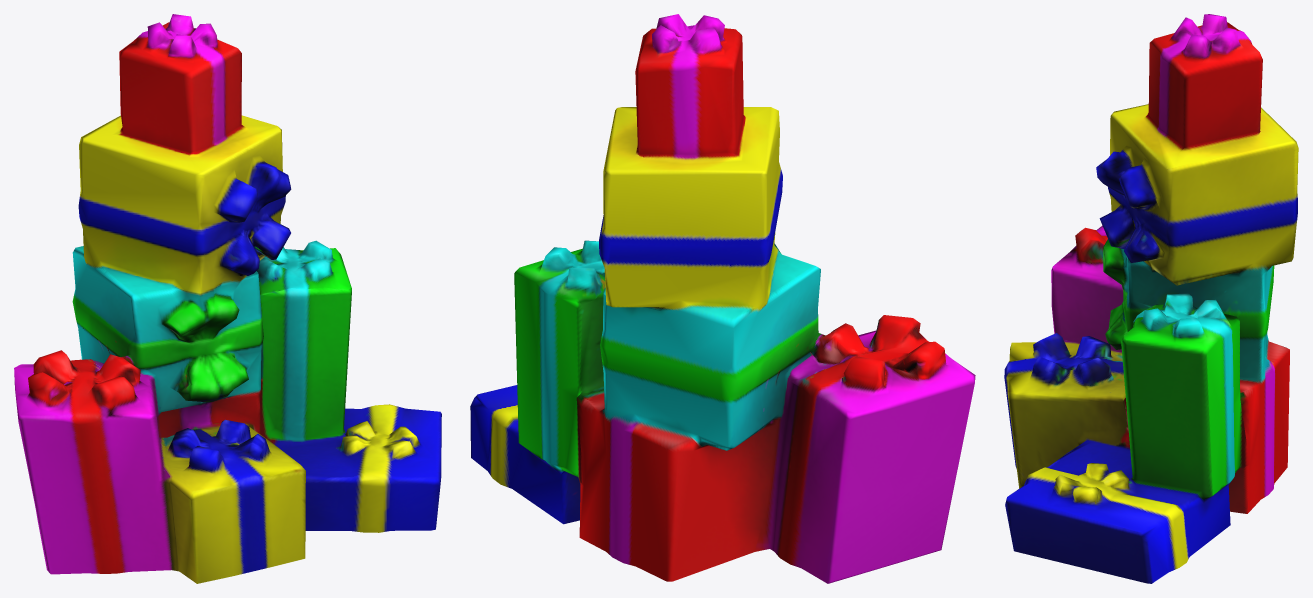
Rendered from gift.fbx.
3 views of the same model, side by side, from view 1: azimuth 30°, elevation 25°; view 2: azimuth 150°, elevation 25°; view 3: azimuth 270°, elevation 25° (orthographic). The views are drawn at different scales.
Parts seen in each view (by area): view 1: giftGeo; view 2: giftGeo; view 3: giftGeo.
Boxes of the visible parts, <box> form: giftGeo: <box>14,14,441,583</box>; giftGeo: <box>470,14,975,583</box>; giftGeo: <box>1004,14,1298,583</box>.
Bounding box in the file's own units: 15.03 × 15.4 × 9.04.
Materials: 1 (1 with a texture image).
